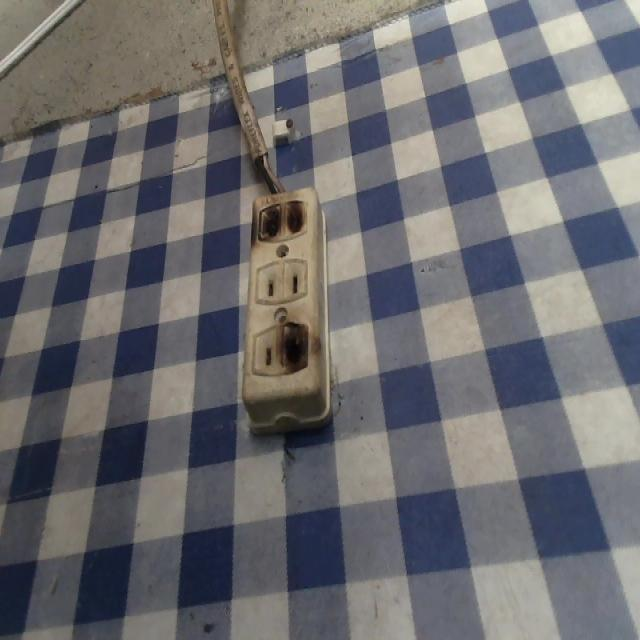-: (242, 196, 314, 249), (275, 318, 322, 386)
